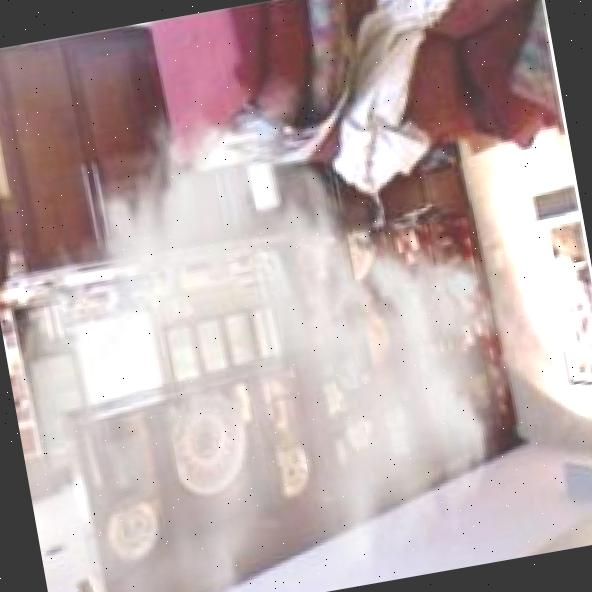smoke: (0, 42, 549, 592)
